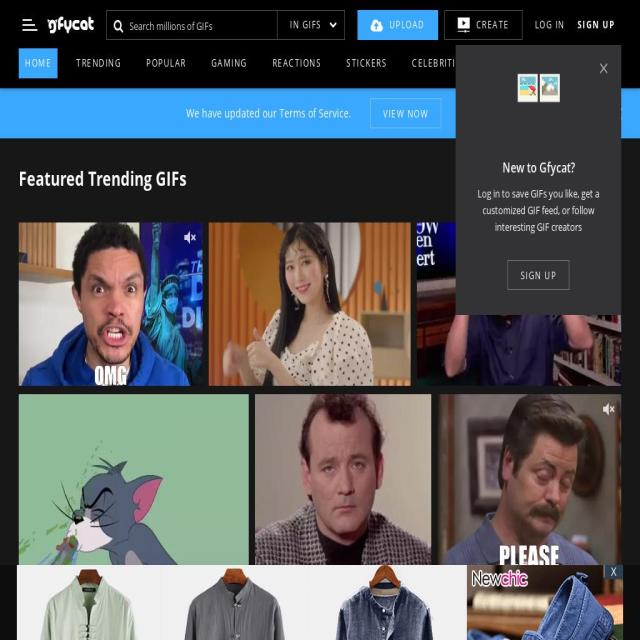button: (19, 164, 186, 194), (357, 10, 438, 40), (443, 10, 522, 40), (370, 98, 441, 128), (406, 48, 472, 78), (507, 260, 570, 290), (266, 48, 328, 78), (41, 10, 100, 40), (70, 48, 128, 78), (541, 48, 597, 78), (340, 48, 393, 78), (140, 48, 192, 78), (204, 48, 254, 78), (484, 48, 529, 78), (18, 48, 58, 78), (476, 168, 532, 189), (507, 266, 569, 282), (535, 168, 577, 189), (581, 168, 621, 189), (605, 97, 630, 130), (19, 633, 109, 640), (550, 57, 582, 70), (594, 57, 621, 70)
field: (107, 11, 277, 39)
heading: (19, 164, 186, 194), (466, 158, 611, 177), (130, 18, 212, 34), (19, 633, 109, 640)
iframe: (17, 565, 623, 640)
image: (19, 394, 249, 573), (416, 222, 622, 386), (208, 222, 411, 386), (438, 394, 622, 573), (254, 394, 432, 573), (19, 222, 202, 386), (513, 70, 564, 137), (48, 16, 94, 34), (601, 399, 616, 420), (182, 228, 197, 248), (457, 17, 470, 33), (370, 18, 383, 32), (113, 19, 123, 33), (613, 108, 622, 119), (486, 584, 494, 596), (600, 63, 608, 74), (329, 20, 337, 30), (616, 596, 622, 604)
link: (331, 574, 392, 589), (410, 574, 461, 589)
text: (158, 574, 478, 606), (466, 185, 611, 235), (186, 105, 352, 122), (158, 574, 332, 589), (498, 592, 612, 608), (576, 18, 616, 32), (534, 18, 565, 32), (389, 20, 425, 30), (476, 20, 510, 30), (604, 565, 624, 579), (392, 574, 410, 589)
